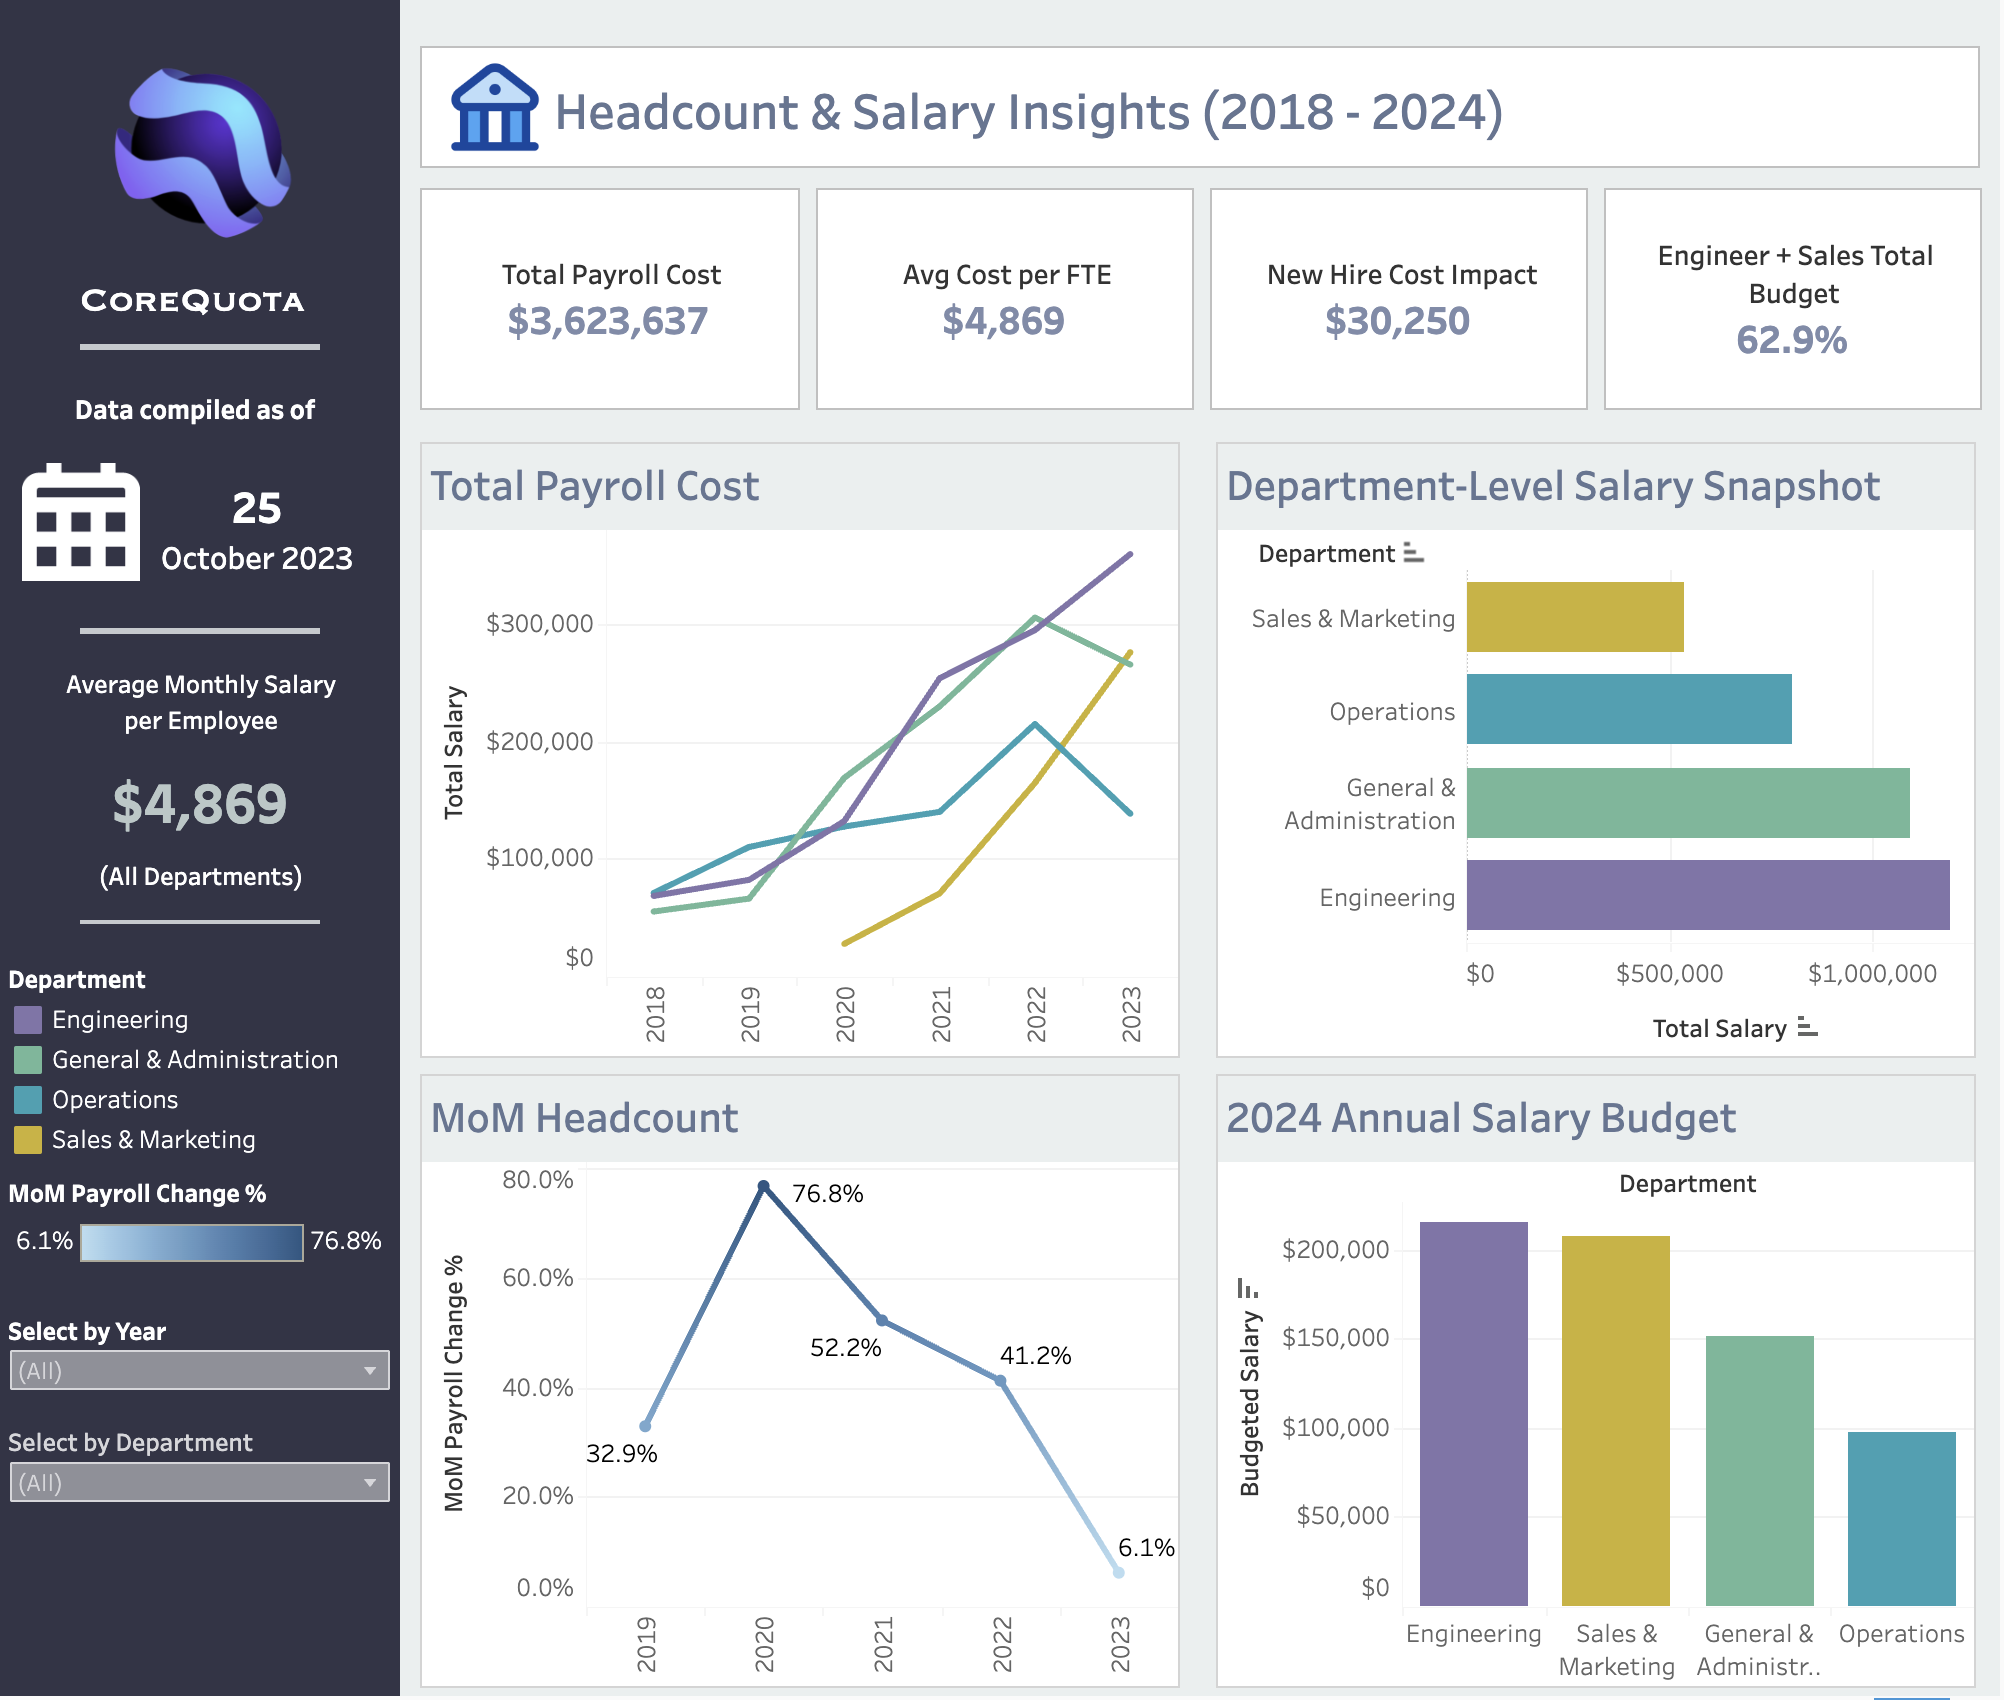

What the dashboard file says about the page in this screenshot:
{"tool":"tableau","page":{"name":"Dashboard 1","canvas":[1000,1000],"units":"permille","ordinal":0},"visuals":[{"type":"blank","box":[0,0,1000,1000]},{"type":"blank","box":[0,0,200,562.9]},{"type":"image","param":"/Users/frdilla/Desktop/CuoreQuota (1).png","box":[50,21.4,100,142.9]},{"type":"blank","box":[210,28.6,780,71.4]},{"type":"image","param":"/Users/frdilla/Downloads/bank.png","box":[225,35.7,45,57.1]},{"type":"text","box":[277,44.3,480,42.9]},{"type":"worksheet","title":"Total Payroll Cost (KPI)","mark":"Text","box":[206,107.1,198,140]},{"type":"worksheet","title":"Avg Cost per FTE (KPI)","mark":"Text","box":[404,107.1,197,140]},{"type":"worksheet","title":"New Hire Cost Impact (KPI)","mark":"Automatic","box":[601,107.1,197,140]},{"type":"worksheet","title":"Budget Allocation (KPI) ","mark":"Automatic","box":[798,107.1,197,140]},{"type":"text","box":[40,157.1,123,42.9]},{"type":"blank","box":[40,204.3,120,2.9]},{"type":"text","box":[30,220,135,42.9]},{"type":"worksheet","title":"Total Payroll Cost","mark":"Automatic","rows":["total_salary"],"cols":["payment_month"],"box":[206,257.1,388,371.4]},{"type":"worksheet","title":"Department-Level Salary Snapshot","mark":"Automatic","rows":["department"],"cols":["total_salary"],"box":[604,257.1,388,371.4]},{"type":"text","box":[73,261.4,111,100]},{"type":"image","param":"/Users/frdilla/Downloads/output-onlinepngtools.png","box":[11,270,59,77.1]},{"type":"blank","box":[40,371.4,120,2.9]},{"type":"text","box":[23,388.6,155,51.4]},{"type":"worksheet","title":"Salary per Headcount (KPI)","mark":"Automatic","box":[23,435.7,155,74.3]},{"type":"text","box":[23,495.7,155,42.9]},{"type":"blank","box":[40,542.9,120,2.9]},{"type":"legend","title":"Total Payroll Cost","param":"[federated.045ztqj0gkeof0187dahv1yav6a0].[none:department:nk]","box":[0,562.9,200,151.4]},{"type":"worksheet","title":"MoM Headcount","mark":"Automatic","rows":["Calculation_698972771076878340"],"cols":["payment_month"],"box":[206,628.6,388,371.4]},{"type":"worksheet","title":"Budget Allocation for 2024","mark":"Automatic","rows":["budgeted_salary"],"cols":["department"],"box":[604,628.6,388,371.4]},{"type":"legend","title":"MoM Headcount","param":"[federated.045ztqj0gkeof0187dahv1yav6a0].[usr:Calculation_698972771076878340:qk]","box":[0,714.3,200,92.9]},{"type":"filter","title":"MoM Headcount","param":"[federated.045ztqj0gkeof0187dahv1yav6a0].[yr:payment_month:ok]","box":[0,807.1,200,74.3]},{"type":"filter","title":"Department-Level Salary Snapshot","param":"[federated.045ztqj0gkeof0187dahv1yav6a0].[none:department:nk]","box":[0,881.4,200,74.3]}]}

Visuals, with their boxes on the dashboard's canvas, which has no fixed pixel size, in thousandths of its width and height (x1, y1, x2, y2). These are canvas units, not pixel positions in the 2004x1700 screenshot, which may show the page scaled, cropped or inside an application window:
blank: detection(0, 0, 1000, 1000)
blank: detection(0, 0, 200, 563)
image: detection(50, 21, 150, 164)
blank: detection(210, 29, 990, 100)
image: detection(225, 36, 270, 93)
text: detection(277, 44, 757, 87)
"Total Payroll Cost (KPI)" worksheet (Text marks): detection(206, 107, 404, 247)
"Avg Cost per FTE (KPI)" worksheet (Text marks): detection(404, 107, 601, 247)
"New Hire Cost Impact (KPI)" worksheet: detection(601, 107, 798, 247)
"Budget Allocation (KPI) " worksheet: detection(798, 107, 995, 247)
text: detection(40, 157, 163, 200)
blank: detection(40, 204, 160, 207)
text: detection(30, 220, 165, 263)
"Total Payroll Cost" worksheet: detection(206, 257, 594, 628)
"Department-Level Salary Snapshot" worksheet: detection(604, 257, 992, 628)
text: detection(73, 261, 184, 361)
image: detection(11, 270, 70, 347)
blank: detection(40, 371, 160, 374)
text: detection(23, 389, 178, 440)
"Salary per Headcount (KPI)" worksheet: detection(23, 436, 178, 510)
text: detection(23, 496, 178, 539)
blank: detection(40, 543, 160, 546)
"Total Payroll Cost" legend: detection(0, 563, 200, 714)
"MoM Headcount" worksheet: detection(206, 629, 594, 1000)
"Budget Allocation for 2024" worksheet: detection(604, 629, 992, 1000)
"MoM Headcount" legend: detection(0, 714, 200, 807)
"MoM Headcount" filter: detection(0, 807, 200, 881)
"Department-Level Salary Snapshot" filter: detection(0, 881, 200, 956)
